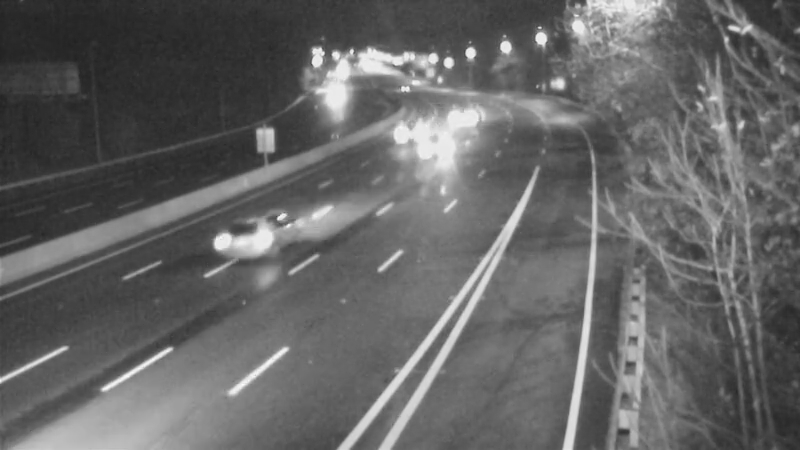vehicle: (199, 193, 279, 273), (438, 87, 488, 137), (384, 106, 434, 156), (412, 124, 462, 174), (307, 72, 357, 122)
